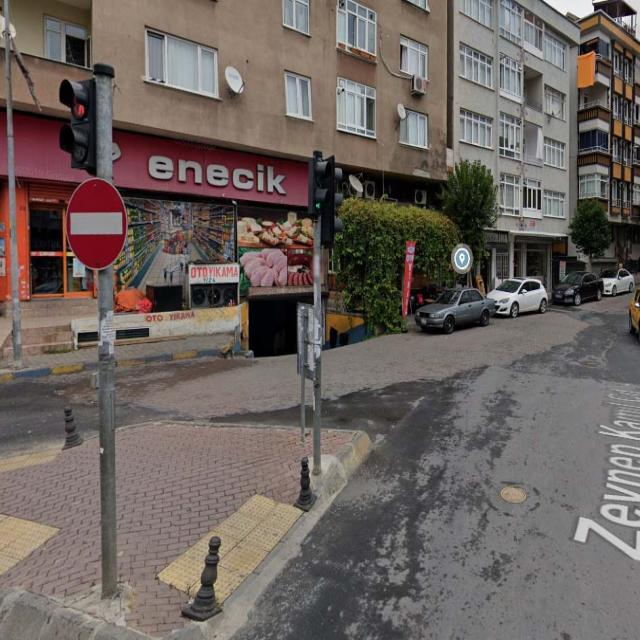girisyok: (66, 178, 128, 270)
